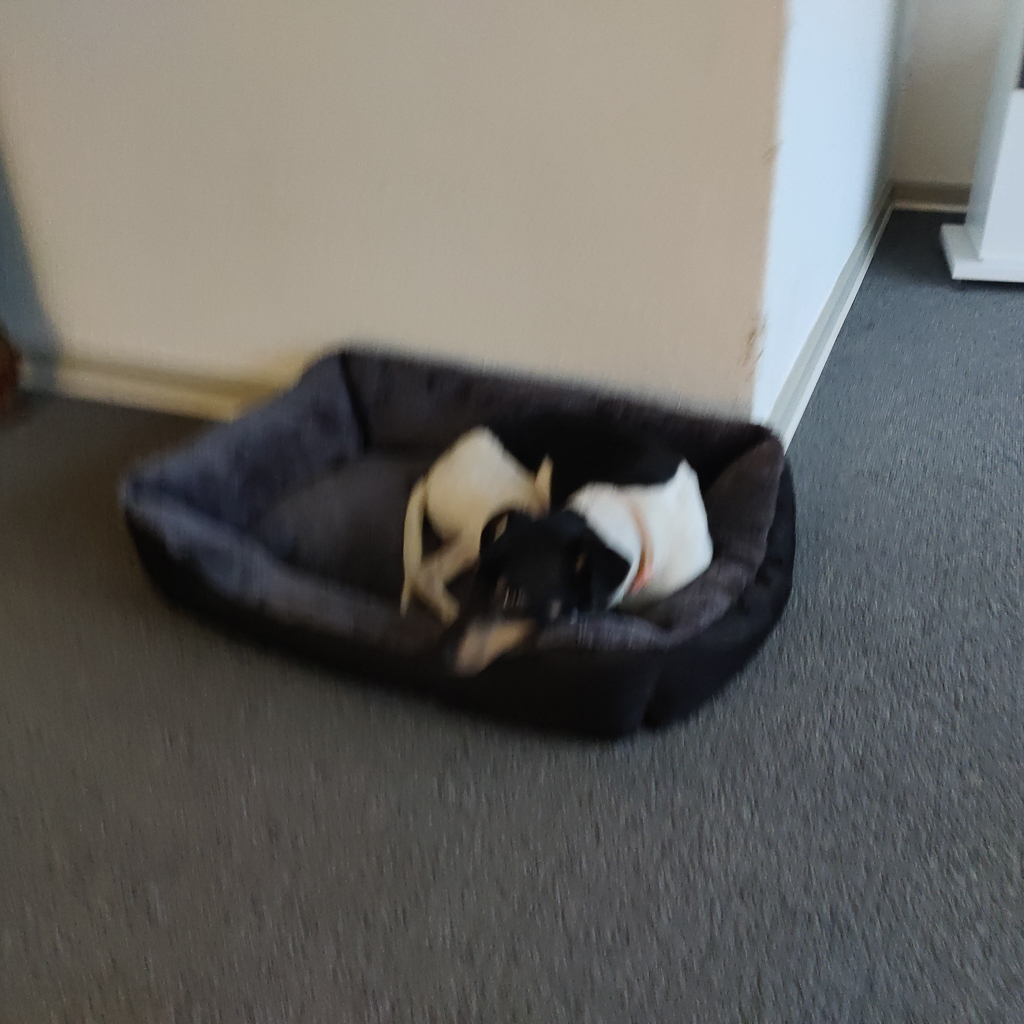Dog: (374, 391, 734, 704)
